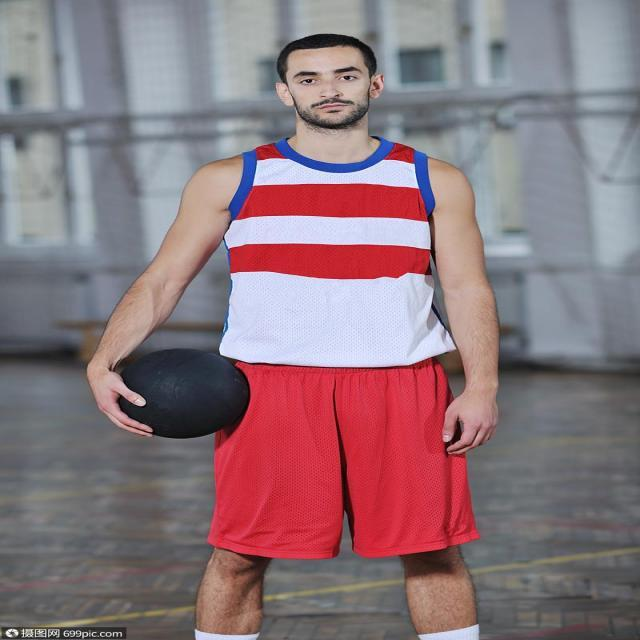rim: (115, 351, 246, 436)
